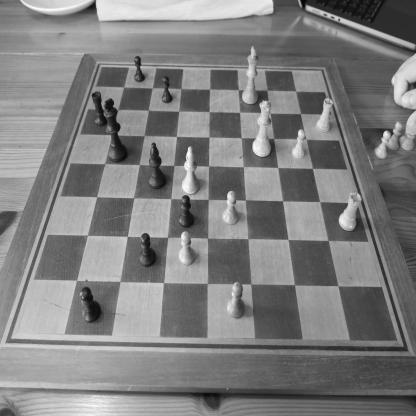black-bishop: (148, 142, 166, 189)
black-king: (104, 98, 128, 163)
black-pawn: (80, 286, 102, 324), (139, 232, 156, 267), (178, 194, 194, 229), (133, 55, 146, 82), (161, 75, 173, 104)
black-rook: (91, 90, 108, 127)
white-bishop: (181, 145, 200, 196)
white-king: (241, 45, 259, 105)
white-knight: (399, 108, 415, 152)
white-pawn: (226, 281, 245, 320), (221, 190, 240, 226), (178, 230, 196, 266), (386, 121, 404, 151), (374, 130, 391, 160), (291, 128, 306, 160)
white-queen: (252, 99, 272, 158)
white-rook: (338, 190, 362, 232), (315, 98, 334, 133)
